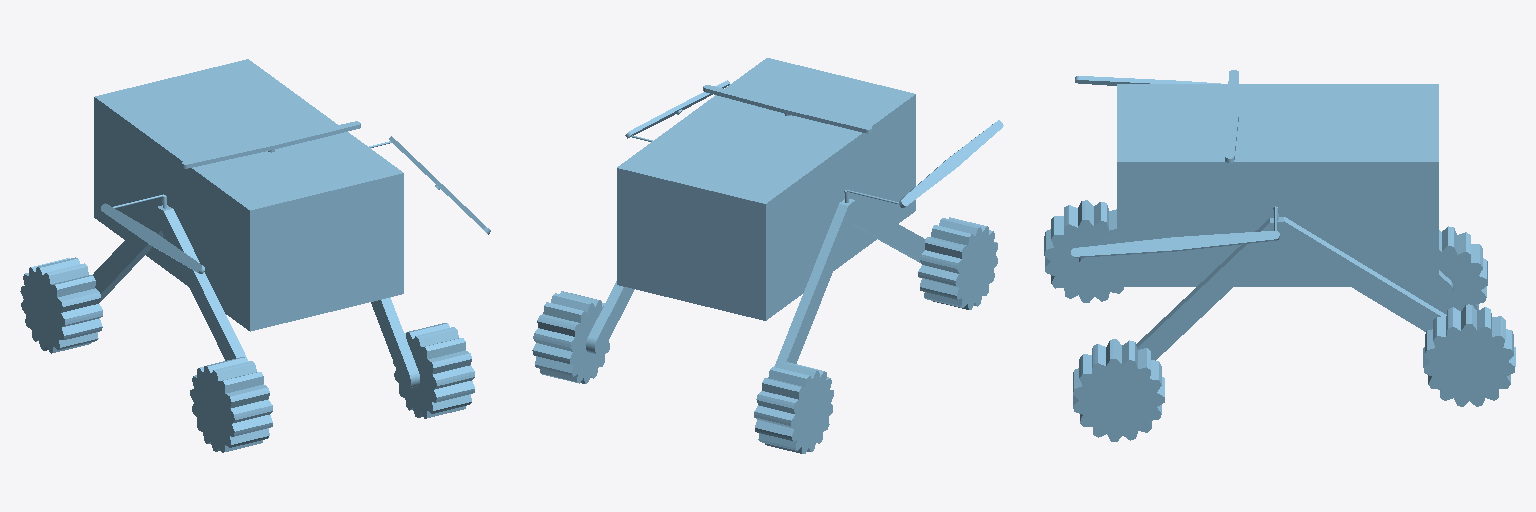
robot.urdf — ambition:
<?xml version="1.0" ?>
<!-- Generated using onshape-to-robot -->
<!-- Onshape document_id: b90d345b7f72f6696c92ef6f -->
<robot name="ambition">

  <!-- Dummy root link -->
  <link name="base_link"/>

  <!-- Fixed joint from dummy root to actual robot root -->
  <joint name="base_to_buda" type="fixed">
    <parent link="base_link"/>
    <child link="buda"/> <!-- your original root -->
    <origin xyz="0 0 0" rpy="0 0 0"/>
  </joint>

  <!-- Link buda -->
  <link name="buda">
    <inertial>
      <origin xyz="0 0 0" rpy="0 0 0"/>
      <mass value="1e-09"/>
      <inertia ixx="1e-09" ixy="0" ixz="0" iyy="1e-09" iyz="0" izz="1e-09"/>
    </inertial>
    <!-- Part buda -->
    <visual>
      <origin xyz="0.0054321 0.480832 0.111962" rpy="0 -0 0"/>
      <geometry>
        <mesh filename="package://ambition_description/urdf/assets/buda.stl"/>
      </geometry>
      <material name="buda_material">
        <color rgba="0.615686 0.811765 0.929412 1"/>
      </material>
    </visual>
    <collision>
      <origin xyz="0.0054321 0.480832 0.111962" rpy="0 -0 0"/>
      <geometry>
        <mesh filename="package://ambition_description/urdf/assets/buda.stl"/>
      </geometry>
    </collision>
  </link>
  <!-- Link pivot -->
  <link name="pivot">
    <inertial>
      <origin xyz="0 0 0" rpy="0 0 0"/>
      <mass value="1e-09"/>
      <inertia ixx="1e-09" ixy="0" ixz="0" iyy="1e-09" iyz="0" izz="1e-09"/>
    </inertial>
    <!-- Part pivot -->
    <visual>
      <origin xyz="-8.67362e-19 0 -0.005" rpy="-3.14159 -1.50463e-36 2.88825e-18"/>
      <geometry>
        <mesh filename="package://ambition_description/urdf/assets/pivot.stl"/>
      </geometry>
      <material name="pivot_material">
        <color rgba="0.615686 0.811765 0.929412 1"/>
      </material>
    </visual>
    <collision>
      <origin xyz="-8.67362e-19 0 -0.005" rpy="-3.14159 -1.50463e-36 2.88825e-18"/>
      <geometry>
        <mesh filename="package://ambition_description/urdf/assets/pivot.stl"/>
      </geometry>
    </collision>
  </link>
  <!-- Joint from buda to pivot -->
  <joint name="1" type="revolute">
    <origin xyz="0.0054321 0.030832 0.266962" rpy="-3.14159 1.07816e-20 3.12067"/>
    <parent link="buda"/>
    <child link="pivot"/>
    <axis xyz="0 0 1"/>
    <limit effort="10" velocity="10" lower="-3.141592653589793" upper="3.141592653589793"/>
  </joint>
  <!-- Link ramie -->
  <link name="ramie">
    <inertial>
      <origin xyz="0 0 0" rpy="0 0 0"/>
      <mass value="1e-09"/>
      <inertia ixx="1e-09" ixy="0" ixz="0" iyy="1e-09" iyz="0" izz="1e-09"/>
    </inertial>
    <!-- Part ramie -->
    <visual>
      <origin xyz="-1.38778e-17 0 -0.005" rpy="1.5708 -5.56307e-32 1.71652e-19"/>
      <geometry>
        <mesh filename="package://ambition_description/urdf/assets/ramie.stl"/>
      </geometry>
      <material name="ramie_material">
        <color rgba="0.615686 0.811765 0.929412 1"/>
      </material>
    </visual>
    <collision>
      <origin xyz="-1.38778e-17 0 -0.005" rpy="1.5708 -5.56307e-32 1.71652e-19"/>
      <geometry>
        <mesh filename="package://ambition_description/urdf/assets/ramie.stl"/>
      </geometry>
    </collision>
  </link>
  <!-- Link rod -->
  <link name="rod">
    <inertial>
      <origin xyz="0 0 0" rpy="0 0 0"/>
      <mass value="1e-09"/>
      <inertia ixx="1e-09" ixy="0" ixz="0" iyy="1e-09" iyz="0" izz="1e-09"/>
    </inertial>
    <!-- Part rod -->
    <visual>
      <origin xyz="0.0025 0 -0.0745" rpy="1.5708 1.5708 0"/>
      <geometry>
        <mesh filename="package://ambition_description/urdf/assets/rod.stl"/>
      </geometry>
      <material name="rod_material">
        <color rgba="0.615686 0.811765 0.929412 1"/>
      </material>
    </visual>
    <collision>
      <origin xyz="0.0025 0 -0.0745" rpy="1.5708 1.5708 0"/>
      <geometry>
        <mesh filename="package://ambition_description/urdf/assets/rod.stl"/>
      </geometry>
    </collision>
  </link>
  <!-- Link pivot_2 -->
  <link name="pivot_2">
    <inertial>
      <origin xyz="0 0 0" rpy="0 0 0"/>
      <mass value="1e-09"/>
      <inertia ixx="1e-09" ixy="0" ixz="0" iyy="1e-09" iyz="0" izz="1e-09"/>
    </inertial>
    <!-- Part pivot_2 -->
    <visual>
      <origin xyz="0.217937 0.00468479 -0.00238129" rpy="-2.41143 -0.0109236 -3.1201"/>
      <geometry>
        <mesh filename="package://ambition_description/urdf/assets/pivot.stl"/>
      </geometry>
      <material name="pivot_2_material">
        <color rgba="0.615686 0.811765 0.929412 1"/>
      </material>
    </visual>
    <collision>
      <origin xyz="0.217937 0.00468479 -0.00238129" rpy="-2.41143 -0.0109236 -3.1201"/>
      <geometry>
        <mesh filename="package://ambition_description/urdf/assets/pivot.stl"/>
      </geometry>
    </collision>
  </link>
  <!-- Joint from rod to pivot_2 -->
  <!-- Yaw joint -->
  <joint name="3_yaw" type="revolute">
    <parent link="rod"/>
    <child link="pivot_2_yaw"/>
    <origin xyz="8.32667e-17 0 -0.149" rpy="0 0 0"/>
    <axis xyz="0 0 1"/>
    <limit effort="10" velocity="10" lower="-3.14159" upper="3.14159"/>
  </joint>

  <!-- Pitch joint -->
  <joint name="3_pitch" type="revolute">
    <parent link="pivot_2_yaw"/>
    <child link="pivot_2_pitch"/>
    <origin xyz="0 0 0" rpy="0 0 0"/>
    <axis xyz="0 1 0"/>
    <limit effort="10" velocity="10" lower="-3.14159" upper="3.14159"/>
  </joint>

  <!-- Roll joint -->
  <joint name="3_roll" type="revolute">
    <parent link="pivot_2_pitch"/>
    <child link="pivot_2"/>
    <origin xyz="0 0 0" rpy="0 0 0"/>
    <axis xyz="1 0 0"/>
    <limit effort="10" velocity="10" lower="-3.14159" upper="3.14159"/>
  </joint>

  <link name="pivot_2_yaw"/>
  <link name="pivot_2_pitch"/>

  <!-- Joint from ramie to rod -->
  <!-- Yaw joint -->
  <joint name="7_yaw" type="revolute">
    <parent link="ramie"/>
    <child link="rod_yaw"/>
    <origin xyz="-6.93889e-17 -0.0491511 -0.0175" rpy="0 0 0"/>
    <axis xyz="0 0 1"/>
    <limit effort="10" velocity="10" lower="-3.14159" upper="3.14159"/>
  </joint>

  <!-- Pitch joint -->
  <joint name="7_pitch" type="revolute">
    <parent link="rod_yaw"/>
    <child link="rod_pitch"/>
    <origin xyz="0 0 0" rpy="0 0 0"/>
    <axis xyz="0 1 0"/>
    <limit effort="10" velocity="10" lower="-3.14159" upper="3.14159"/>
  </joint>

  <!-- Roll joint -->
  <joint name="7_roll" type="revolute">
    <parent link="rod_pitch"/>
    <child link="rod"/>
    <origin xyz="0 0 0" rpy="0 0 0"/>
    <axis xyz="1 0 0"/>
    <limit effort="10" velocity="10" lower="-3.14159" upper="3.14159"/>
  </joint>

  <link name="rod_yaw"/>
  <link name="rod_pitch"/>

  <!-- Link kolo -->
  <link name="kolo">
    <inertial>
      <origin xyz="0 0 0" rpy="0 0 0"/>
      <mass value="1e-09"/>
      <inertia ixx="1e-09" ixy="0" ixz="0" iyy="1e-09" iyz="0" izz="1e-09"/>
    </inertial>
    <!-- Part kolo -->
    <visual>
      <origin xyz="-1.11022e-16 -5.55112e-17 2.77556e-17" rpy="1.5708 3.80554e-16 0.0912233"/>
      <geometry>
        <mesh filename="package://ambition_description/urdf/assets/kolo.stl"/>
      </geometry>
      <material name="kolo_material">
        <color rgba="0.615686 0.811765 0.929412 1"/>
      </material>
    </visual>
    <collision>
      <origin xyz="-1.11022e-16 -5.55112e-17 2.77556e-17" rpy="1.5708 3.80554e-16 0.0912233"/>
      <geometry>
        <mesh filename="package://ambition_description/urdf/assets/kolo.stl"/>
      </geometry>
    </collision>
  </link>
  <!-- Joint from ramie to kolo -->
  <joint name="9" type="revolute">
    <origin xyz="-0.383022 0.321394 -0.03" rpy="-2.1231e-32 -5.56307e-32 1.71652e-19"/>
    <parent link="ramie"/>
    <child link="kolo"/>
    <axis xyz="0 0 1"/>
    <limit effort="10" velocity="10" lower="-3.141592653589793" upper="3.141592653589793"/>
  </joint>
  <!-- Link kolo_2 -->
  <link name="kolo_2">
    <inertial>
      <origin xyz="0 0 0" rpy="0 0 0"/>
      <mass value="1e-09"/>
      <inertia ixx="1e-09" ixy="0" ixz="0" iyy="1e-09" iyz="0" izz="1e-09"/>
    </inertial>
    <!-- Part kolo_2 -->
    <visual>
      <origin xyz="0 0 2.77556e-17" rpy="1.5708 7.86336e-32 9.64274e-19"/>
      <geometry>
        <mesh filename="package://ambition_description/urdf/assets/kolo.stl"/>
      </geometry>
      <material name="kolo_2_material">
        <color rgba="0.615686 0.811765 0.929412 1"/>
      </material>
    </visual>
    <collision>
      <origin xyz="0 0 2.77556e-17" rpy="1.5708 7.86336e-32 9.64274e-19"/>
      <geometry>
        <mesh filename="package://ambition_description/urdf/assets/kolo.stl"/>
      </geometry>
    </collision>
  </link>
  <!-- Joint from ramie to kolo_2 -->
  <joint name="10" type="revolute">
    <origin xyz="0.383022 0.321394 -0.03" rpy="1.26873e-15 1.16141e-15 1.66202"/>
    <parent link="ramie"/>
    <child link="kolo_2"/>
    <axis xyz="0 0 1"/>
    <limit effort="10" velocity="10" lower="-3.141592653589793" upper="3.141592653589793"/>
  </joint>
  <!-- Joint from buda to ramie -->
  <joint name="4" type="revolute">
    <origin xyz="-0.194568 0.130832 0.111962" rpy="-1.5708 -0.0804536 -1.5708"/>
    <parent link="buda"/>
    <child link="ramie"/>
    <axis xyz="0 0 1"/>
    <limit effort="10" velocity="10" lower="-3.141592653589793" upper="3.141592653589793"/>
  </joint>
  <!-- Link ramie_2 -->
  <link name="ramie_2">
    <inertial>
      <origin xyz="0 0 0" rpy="0 0 0"/>
      <mass value="1e-09"/>
      <inertia ixx="1e-09" ixy="0" ixz="0" iyy="1e-09" iyz="0" izz="1e-09"/>
    </inertial>
    <!-- Part ramie_2 -->
    <visual>
      <origin xyz="0 0 -0.005" rpy="1.5708 -1.57728e-33 1.28028e-17"/>
      <geometry>
        <mesh filename="package://ambition_description/urdf/assets/ramie.stl"/>
      </geometry>
      <material name="ramie_2_material">
        <color rgba="0.615686 0.811765 0.929412 1"/>
      </material>
    </visual>
    <collision>
      <origin xyz="0 0 -0.005" rpy="1.5708 -1.57728e-33 1.28028e-17"/>
      <geometry>
        <mesh filename="package://ambition_description/urdf/assets/ramie.stl"/>
      </geometry>
    </collision>
  </link>
  <!-- Link rod_2 -->
  <link name="rod_2">
    <inertial>
      <origin xyz="0 0 0" rpy="0 0 0"/>
      <mass value="1e-09"/>
      <inertia ixx="1e-09" ixy="0" ixz="0" iyy="1e-09" iyz="0" izz="1e-09"/>
    </inertial>
    <!-- Part rod_2 -->
    <visual>
      <origin xyz="0.0025 2.77556e-17 -0.0745" rpy="-1.5708 -1.5708 0"/>
      <geometry>
        <mesh filename="package://ambition_description/urdf/assets/rod.stl"/>
      </geometry>
      <material name="rod_2_material">
        <color rgba="0.615686 0.811765 0.929412 1"/>
      </material>
    </visual>
    <collision>
      <origin xyz="0.0025 2.77556e-17 -0.0745" rpy="-1.5708 -1.5708 0"/>
      <geometry>
        <mesh filename="package://ambition_description/urdf/assets/rod.stl"/>
      </geometry>
    </collision>
  </link>
  <!-- Link pivot_3 -->
  <link name="pivot_3">
    <inertial>
      <origin xyz="0 0 0" rpy="0 0 0"/>
      <mass value="1e-09"/>
      <inertia ixx="1e-09" ixy="0" ixz="0" iyy="1e-09" iyz="0" izz="1e-09"/>
    </inertial>
    <!-- Part pivot_3 -->
    <visual>
      <origin xyz="-0.217966 -0.00102935 0.00369998" rpy="-2.41283 -0.0169732 -3.13687"/>
      <geometry>
        <mesh filename="package://ambition_description/urdf/assets/pivot.stl"/>
      </geometry>
      <material name="pivot_3_material">
        <color rgba="0.615686 0.811765 0.929412 1"/>
      </material>
    </visual>
    <collision>
      <origin xyz="-0.217966 -0.00102935 0.00369998" rpy="-2.41283 -0.0169732 -3.13687"/>
      <geometry>
        <mesh filename="package://ambition_description/urdf/assets/pivot.stl"/>
      </geometry>
    </collision>
  </link>
  <!-- Joint from rod_2 to pivot_3 -->
  <!-- Yaw joint -->
  <joint name="2_yaw" type="revolute">
    <parent link="rod_2"/>
    <child link="pivot_3_yaw"/>
    <origin xyz="2.77556e-17 2.77556e-17 -0.149" rpy="0 0 0"/>
    <axis xyz="0 0 1"/>
    <limit effort="10" velocity="10" lower="-3.14159" upper="3.14159"/>
  </joint>

  <!-- Pitch joint -->
  <joint name="2_pitch" type="revolute">
    <parent link="pivot_3_yaw"/>
    <child link="pivot_3_pitch"/>
    <origin xyz="0 0 0" rpy="0 0 0"/>
    <axis xyz="0 1 0"/>
    <limit effort="10" velocity="10" lower="-3.14159" upper="3.14159"/>
  </joint>

  <!-- Roll joint -->
  <joint name="2_roll" type="revolute">
    <parent link="pivot_3_pitch"/>
    <child link="pivot_3"/>
    <origin xyz="0 0 0" rpy="0 0 0"/>
    <axis xyz="1 0 0"/>
    <limit effort="10" velocity="10" lower="-3.14159" upper="3.14159"/>
  </joint>

  <link name="pivot_3_yaw"/>
  <link name="pivot_3_pitch"/>

  <!-- Joint from ramie_2 to rod_2 -->
  <!-- Yaw joint -->
  <joint name="6_yaw" type="revolute">
    <parent link="ramie_2"/>
    <child link="rod_2_yaw"/>
    <origin xyz="0 -0.0491511 -0.0175" rpy="0 0 0"/>
    <axis xyz="0 0 1"/>
    <limit effort="10" velocity="10" lower="-3.14159" upper="3.14159"/>
  </joint>

  <!-- Pitch joint -->
  <joint name="6_pitch" type="revolute">
    <parent link="rod_2_yaw"/>
    <child link="rod_2_pitch"/>
    <origin xyz="0 0 0" rpy="0 0 0"/>
    <axis xyz="0 1 0"/>
    <limit effort="10" velocity="10" lower="-3.14159" upper="3.14159"/>
  </joint>

  <!-- Roll joint -->
  <joint name="6_roll" type="revolute">
    <parent link="rod_2_pitch"/>
    <child link="rod_2"/>
    <origin xyz="0 0 0" rpy="0 0 0"/>
    <axis xyz="1 0 0"/>
    <limit effort="10" velocity="10" lower="-3.14159" upper="3.14159"/>
  </joint>

  <!-- Intermediate links -->
  <link name="rod_2_yaw"/>
  <link name="rod_2_pitch"/>

  <!-- Link kolo_3 -->
  <link name="kolo_3">
    <inertial>
      <origin xyz="0 0 0" rpy="0 0 0"/>
      <mass value="1e-09"/>
      <inertia ixx="1e-09" ixy="0" ixz="0" iyy="1e-09" iyz="0" izz="1e-09"/>
    </inertial>
    <!-- Part kolo_3 -->
    <visual>
      <origin xyz="0 0 0" rpy="1.5708 -6.64138e-34 1.83024e-19"/>
      <geometry>
        <mesh filename="package://ambition_description/urdf/assets/kolo.stl"/>
      </geometry>
      <material name="kolo_3_material">
        <color rgba="0.615686 0.811765 0.929412 1"/>
      </material>
    </visual>
    <collision>
      <origin xyz="0 0 0" rpy="1.5708 -6.64138e-34 1.83024e-19"/>
      <geometry>
        <mesh filename="package://ambition_description/urdf/assets/kolo.stl"/>
      </geometry>
    </collision>
  </link>
  <!-- Joint from ramie_2 to kolo_3 -->
  <joint name="8" type="revolute">
    <origin xyz="0.383022 0.321394 -0.03" rpy="-4.80867e-17 1.26887e-16 -3.04018"/>
    <parent link="ramie_2"/>
    <child link="kolo_3"/>
    <axis xyz="0 0 1"/>
    <limit effort="10" velocity="10" lower="-3.141592653589793" upper="3.141592653589793"/>
  </joint>
  <!-- Link kolo_4 -->
  <link name="kolo_4">
    <inertial>
      <origin xyz="0 0 0" rpy="0 0 0"/>
      <mass value="1e-09"/>
      <inertia ixx="1e-09" ixy="0" ixz="0" iyy="1e-09" iyz="0" izz="1e-09"/>
    </inertial>
    <!-- Part kolo_4 -->
    <visual>
      <origin xyz="2.77556e-17 -5.55112e-17 0" rpy="1.5708 -6.17893e-33 9.74466e-19"/>
      <geometry>
        <mesh filename="package://ambition_description/urdf/assets/kolo.stl"/>
      </geometry>
      <material name="kolo_4_material">
        <color rgba="0.615686 0.811765 0.929412 1"/>
      </material>
    </visual>
    <collision>
      <origin xyz="2.77556e-17 -5.55112e-17 0" rpy="1.5708 -6.17893e-33 9.74466e-19"/>
      <geometry>
        <mesh filename="package://ambition_description/urdf/assets/kolo.stl"/>
      </geometry>
    </collision>
  </link>
  <!-- Joint from ramie_2 to kolo_4 -->
  <joint name="11" type="revolute">
    <origin xyz="-0.383022 0.321394 -0.03" rpy="-4.50064e-17 1.26893e-16 -1.46939"/>
    <parent link="ramie_2"/>
    <child link="kolo_4"/>
    <axis xyz="0 0 1"/>
    <limit effort="10" velocity="10" lower="-3.141592653589793" upper="3.141592653589793"/>
  </joint>
  <!-- Joint from buda to ramie_2 -->
  <joint name="5" type="revolute">
    <origin xyz="0.205432 0.130832 0.111962" rpy="-1.5708 -0.108416 1.5708"/>
    <parent link="buda"/>
    <child link="ramie_2"/>
    <axis xyz="0 0 1"/>
    <limit effort="10" velocity="10" lower="-3.141592653589793" upper="3.141592653589793"/>
  </joint>
</robot>

--- Render facts (derived) ---
Views: 3 orthographic renders of the robot side by side, from view 1: azimuth 30°, elevation 25°; view 2: azimuth 150°, elevation 25°; view 3: azimuth 270°, elevation 25°.
Robot: ambition — 21 links, 20 joints (19 revolute, 1 fixed); root link base_link; default pose: every joint at zero.
Visible links, largest first — view 1: buda, kolo, kolo_2, kolo_4, ramie, ramie_2, pivot, pivot_2, pivot_3; view 2: buda, kolo, kolo_2, ramie, kolo_3, pivot, ramie_2, pivot_2, pivot_3; view 3: buda, ramie_2, kolo_3, kolo_4, kolo_2, kolo, pivot_3, ramie, pivot, pivot_2.
Link boxes in pixels (bbox=[...]): buda: bbox=[94, 59, 403, 331]; kolo: bbox=[20, 257, 102, 353]; kolo_2: bbox=[190, 357, 272, 452]; kolo_4: bbox=[393, 323, 474, 418]; ramie: bbox=[93, 195, 248, 361]; ramie_2: bbox=[371, 297, 419, 388]; pivot: bbox=[182, 121, 360, 168]; pivot_2: bbox=[101, 203, 204, 273]; pivot_3: bbox=[389, 136, 490, 234]; buda: bbox=[617, 58, 915, 320]; kolo: bbox=[754, 361, 833, 453]; kolo_2: bbox=[918, 217, 997, 309]; ramie: bbox=[774, 190, 925, 367]; kolo_3: bbox=[532, 291, 609, 383]; pivot: bbox=[703, 85, 871, 133]; ramie_2: bbox=[586, 281, 634, 354]; pivot_2: bbox=[899, 120, 1003, 207]; pivot_3: bbox=[625, 80, 729, 138]; buda: bbox=[1117, 84, 1438, 286]; ramie_2: bbox=[1136, 207, 1446, 360]; kolo_3: bbox=[1423, 304, 1515, 406]; kolo_4: bbox=[1073, 339, 1164, 441]; kolo_2: bbox=[1044, 200, 1123, 302]; kolo: bbox=[1401, 226, 1487, 314]; pivot_3: bbox=[1071, 231, 1279, 257]; ramie: bbox=[1079, 232, 1453, 301]; pivot: bbox=[1225, 70, 1238, 162]; pivot_2: bbox=[1075, 76, 1220, 85].
Bounding box of the posed robot: 0.767 × 1.02 × 0.6309 m (x, y, z).
Meshes: 5 distinct files referenced, 12 mesh visuals loaded (5 binary STL).
